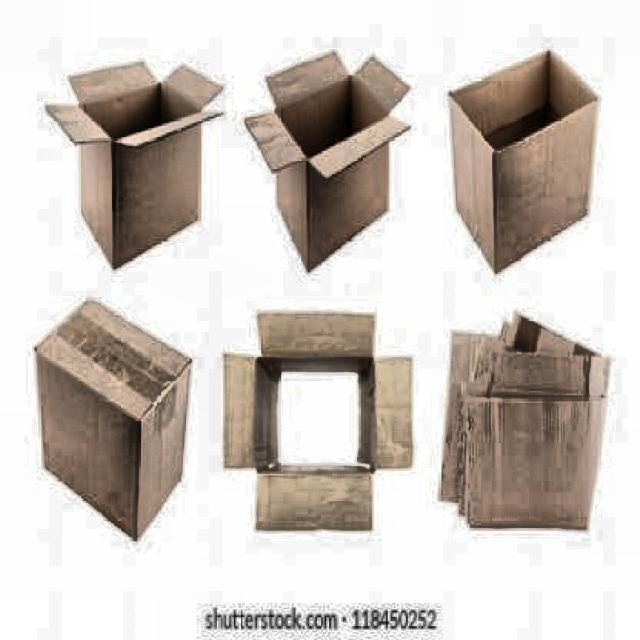Cardbox: (41, 52, 417, 286), (223, 298, 411, 536), (435, 309, 612, 532), (35, 302, 194, 544), (243, 52, 412, 277), (446, 51, 602, 279), (52, 63, 230, 147), (258, 310, 374, 361)
